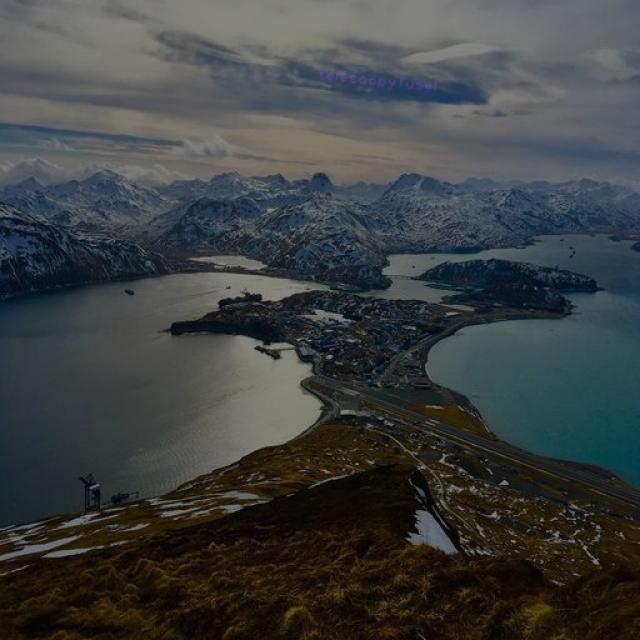watermark: (312, 68, 446, 93)
